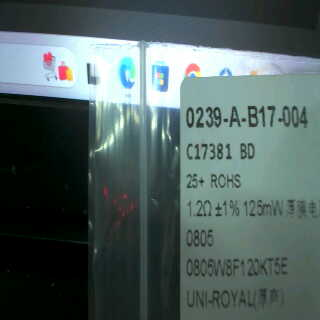1.2R: (185, 193, 212, 254)
